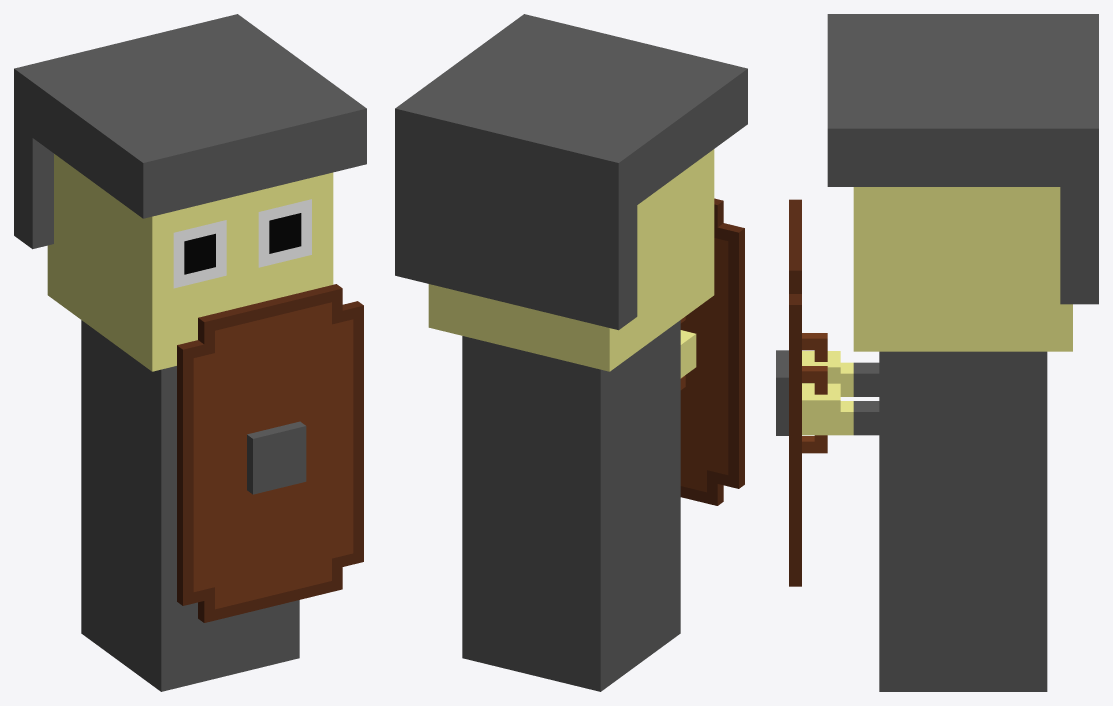
Rendered from Player GameOver.obj.
The picture shows the model from 3 angles, left to right: view 1: azimuth 30°, elevation 25°; view 2: azimuth 150°, elevation 25°; view 3: azimuth 270°, elevation 25°; orthographic projection. The views are drawn at different scales.
Bounding box in the file's own units: 2.1 × 5 × 2.5.
Materials: 1 (1 with a texture image).
